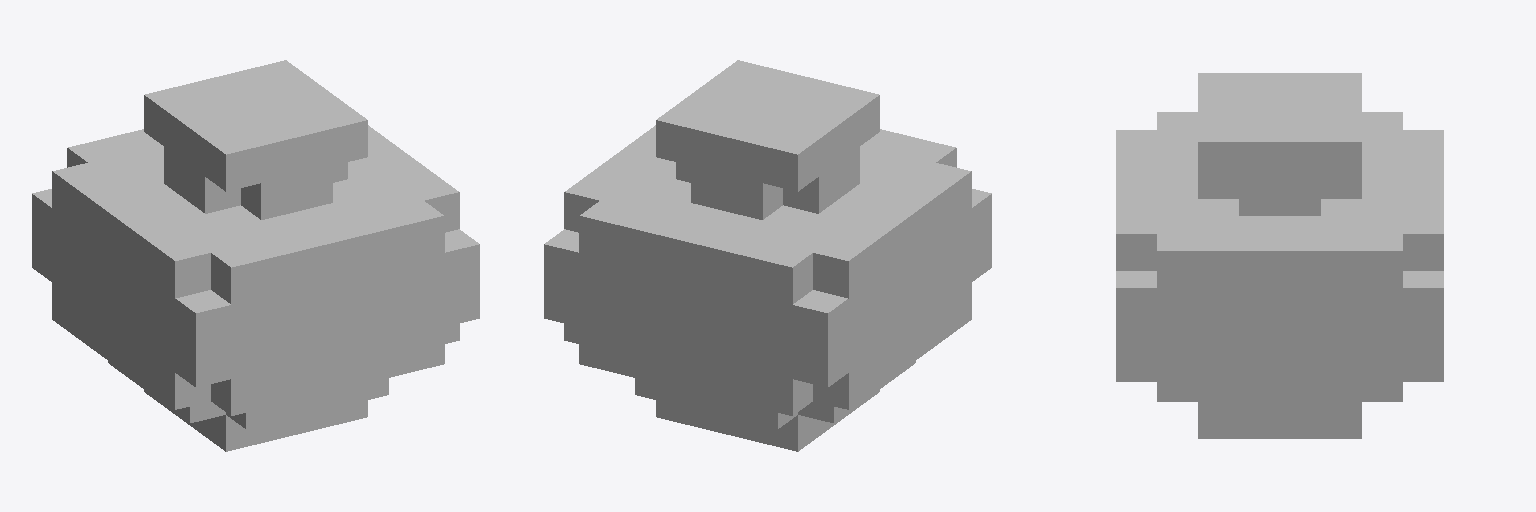
Rendered from Jar_04.obj.
The picture shows the model from 3 angles: view 1: azimuth 30°, elevation 25°; view 2: azimuth 150°, elevation 25°; view 3: azimuth 270°, elevation 25°; orthographic projection.
Parts seen in each view (by area): view 1: Jar_04.002; view 2: Jar_04.002; view 3: Jar_04.002.
Boxes of the visible parts, x1=… form: Jar_04.002: x1=32, y1=60, x2=479, y2=451; Jar_04.002: x1=544, y1=60, x2=991, y2=451; Jar_04.002: x1=1116, y1=73, x2=1443, y2=438.
Size of the model in its own units: 0.8 by 0.8 by 0.8.